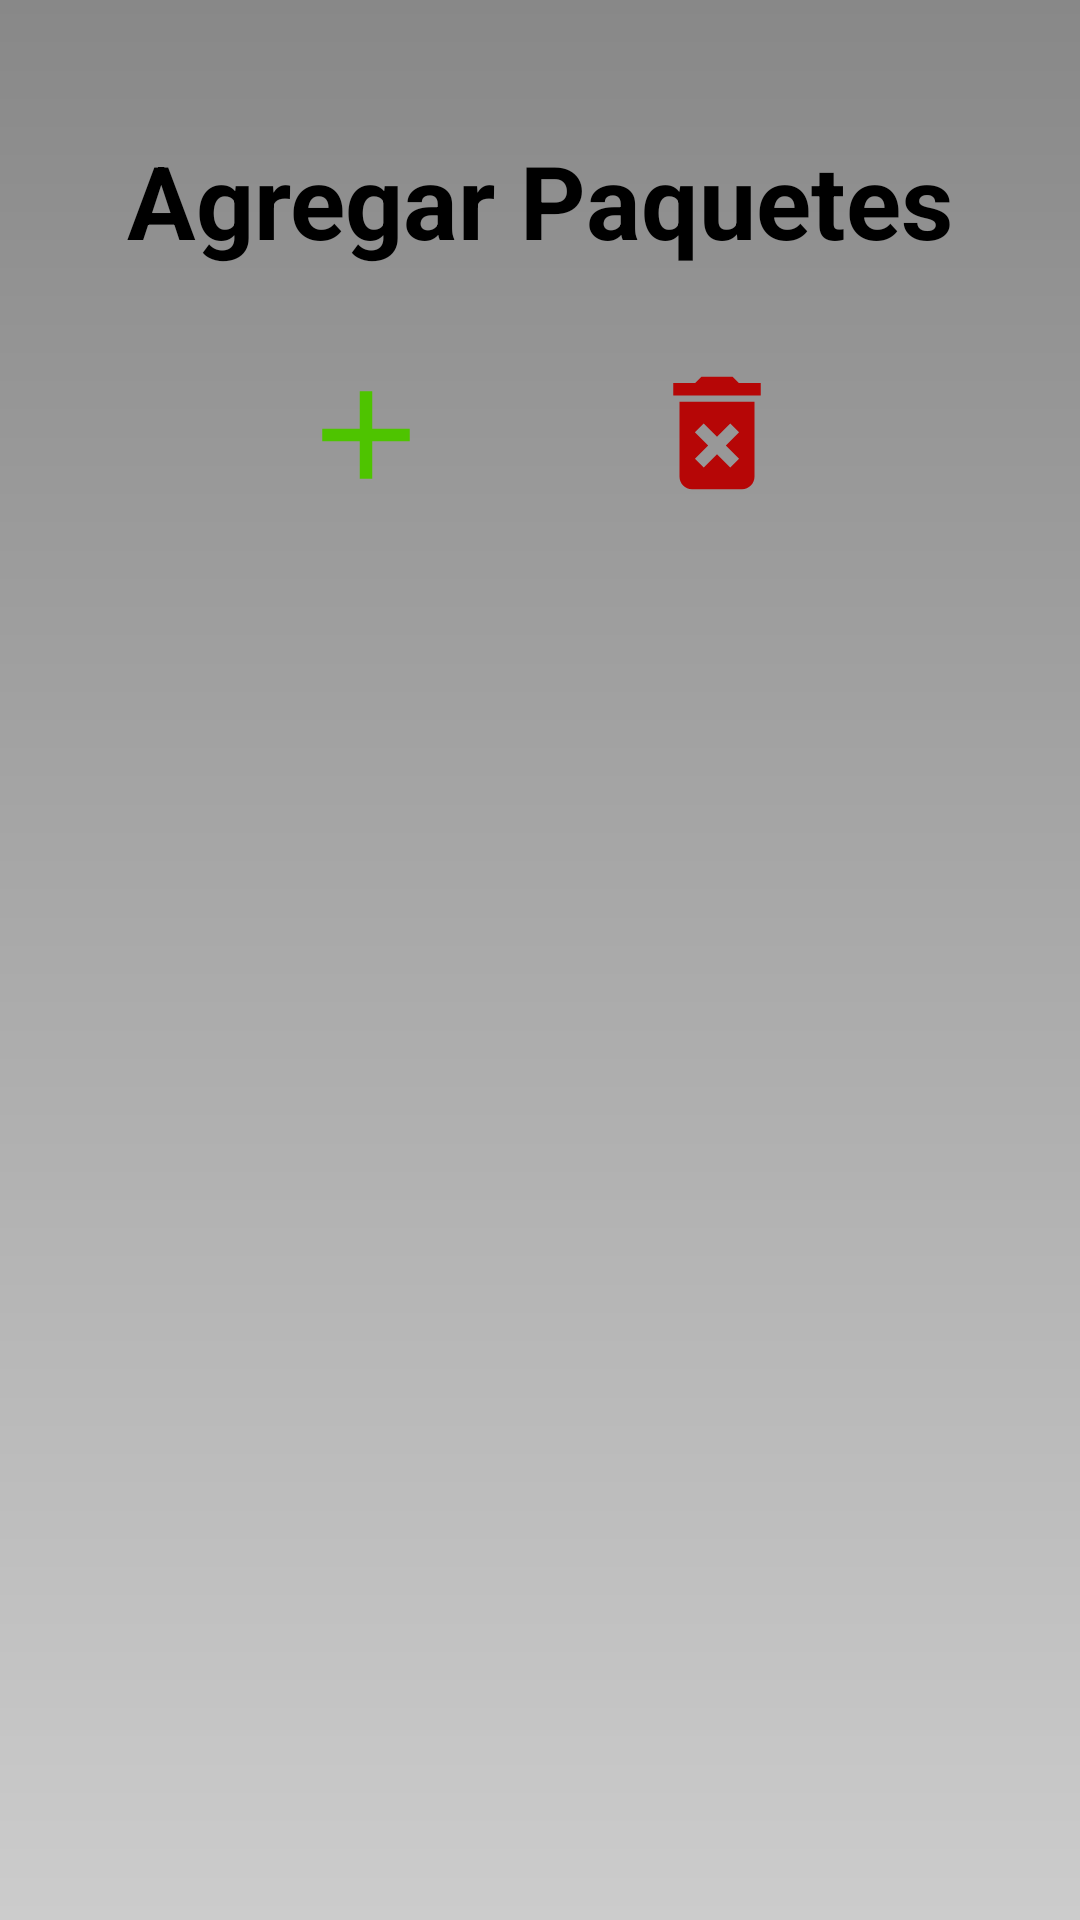

Where to tap for icons on this 1080*1920 app screen, as (x,y):
add: (366,435)
delete forever: (717,433)
